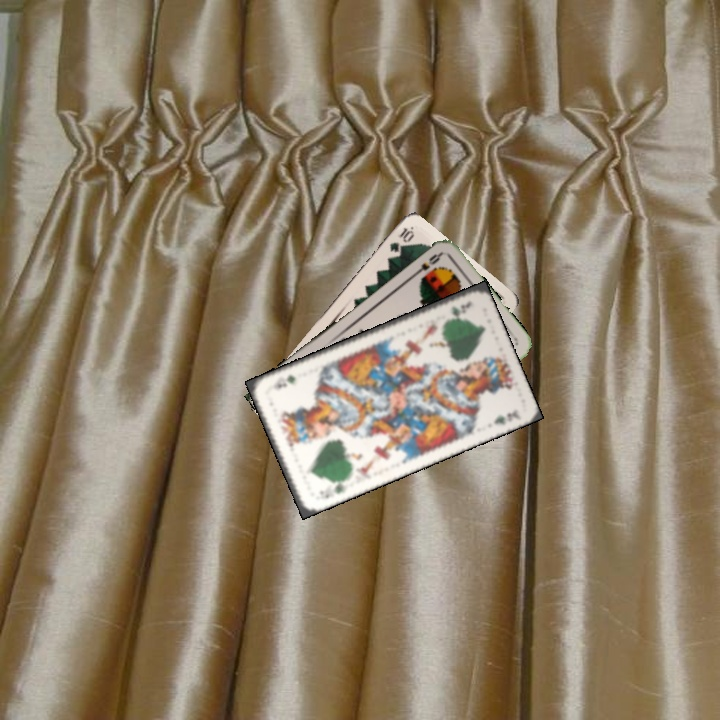G10: (386, 223, 416, 255)
GK: (322, 475, 349, 501), (447, 297, 474, 318)
SO: (409, 249, 444, 279)
